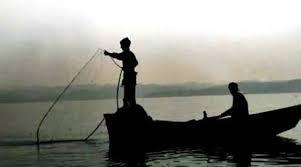fishing boat: (24, 35, 301, 145)
